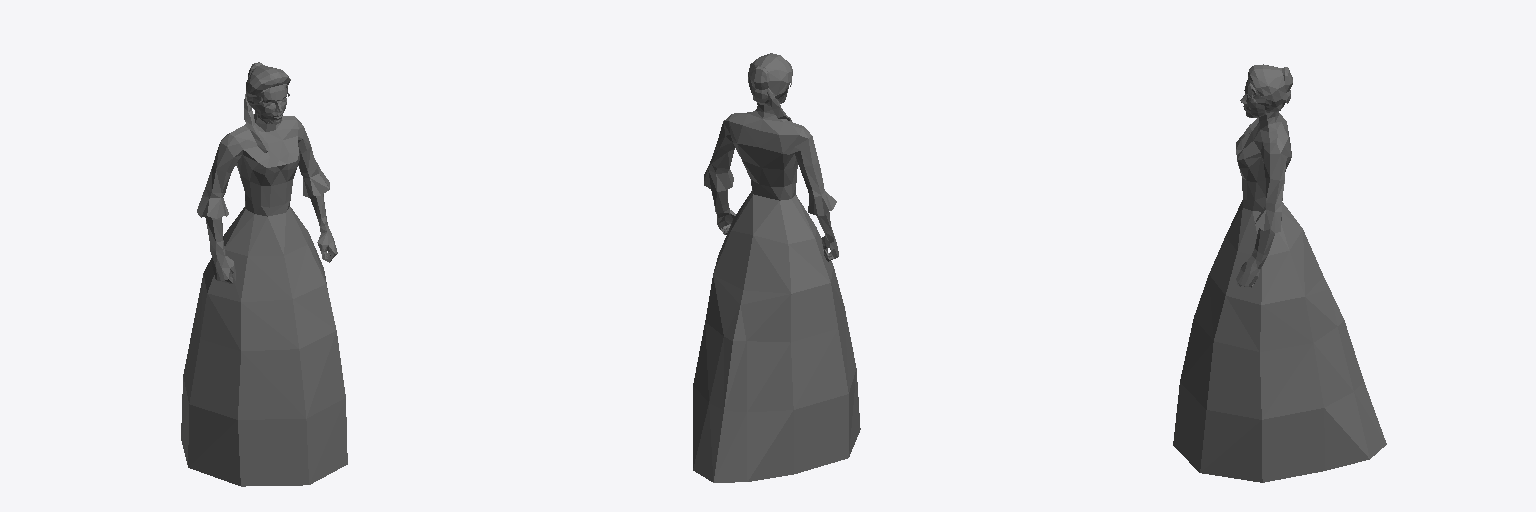
Rendered from redlady.obj.
3 views of the same model, side by side, from view 1: azimuth 30°, elevation 25°; view 2: azimuth 150°, elevation 25°; view 3: azimuth 270°, elevation 25° (orthographic).
Visible parts, largest first — view 1: objHand_right_hi1; view 2: objHand_right_hi1; view 3: objHand_right_hi1.
Part boxes in pixels (x1,y1,x2,y2): objHand_right_hi1: (181,62,347,486); objHand_right_hi1: (693,53,860,482); objHand_right_hi1: (1173,64,1386,482).
Size of the model in its own units: 6.71 by 16.54 by 8.36.